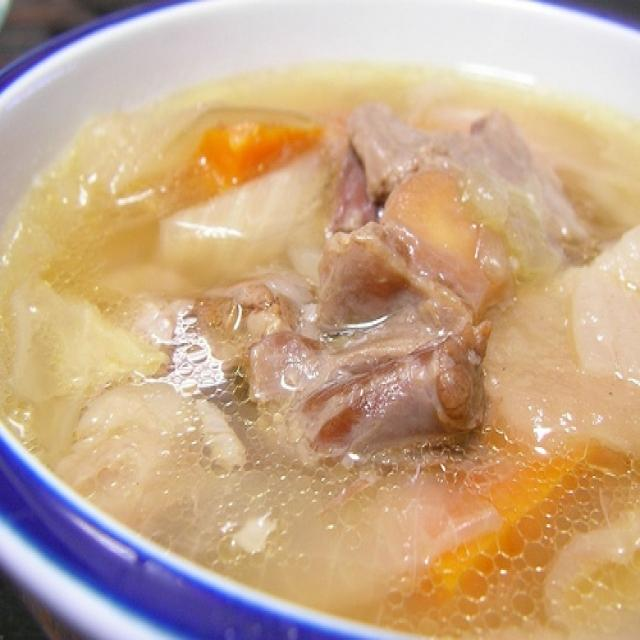汤锅炖物: (22, 16, 627, 626)
